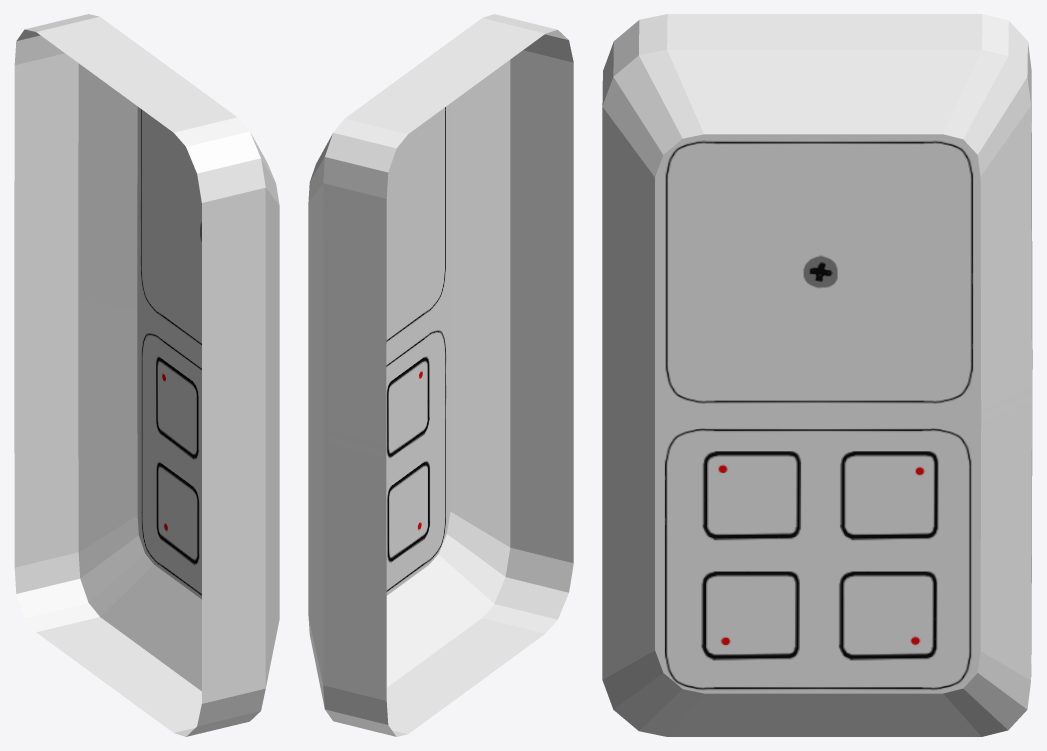
File: MiscButtons.fbx
The picture shows the model from 3 angles, left to right: view 1: azimuth 30°, elevation 25°; view 2: azimuth 150°, elevation 25°; view 3: azimuth 270°, elevation 25°; orthographic projection. The views are drawn at different scales.
Parts seen in each view (by area): view 1: Misc.Buttons; view 2: Misc.Buttons; view 3: Misc.Buttons.
Part boxes in pixels (bbox=[...]): Misc.Buttons: bbox=[14, 14, 279, 736]; Misc.Buttons: bbox=[308, 14, 573, 736]; Misc.Buttons: bbox=[602, 14, 1032, 736].
Bounding box in the file's own units: 79.94 × 456 × 258.
1 material, 1 textured.
